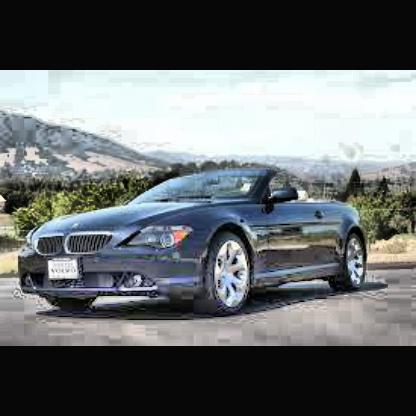BMW 6 Series Convertible 2007: (18, 169, 373, 311)
